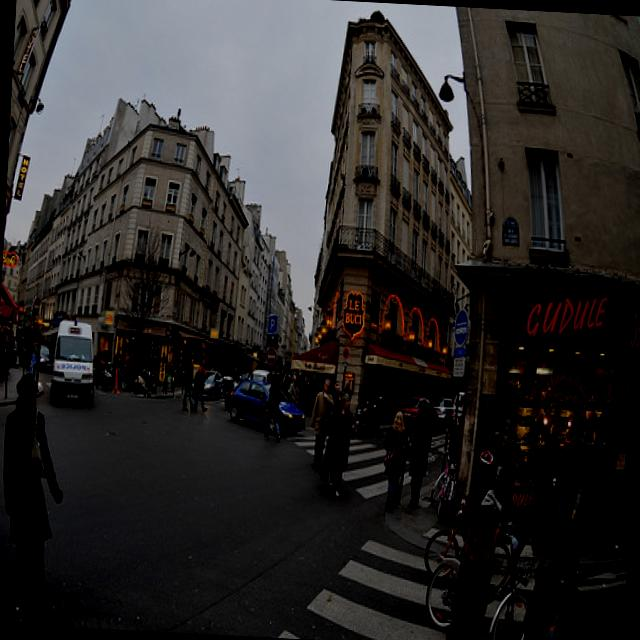Vehicle: (228, 378, 308, 438), (49, 315, 98, 406), (48, 318, 96, 408), (398, 396, 440, 434), (192, 370, 224, 400), (430, 397, 455, 426), (36, 345, 54, 371), (234, 371, 252, 389)
